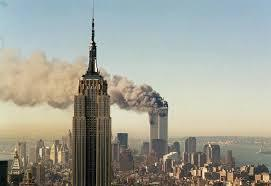smoke: (5, 60, 73, 101), (117, 82, 159, 106)
